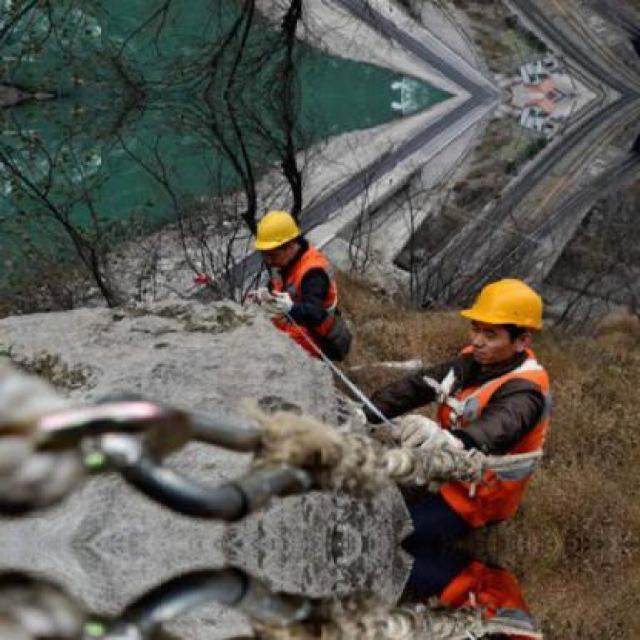Reflective-Jacket: (391, 355, 560, 535), (277, 248, 348, 347), (505, 68, 563, 125)
Safety-Helmet: (452, 270, 556, 341), (242, 203, 310, 260)
